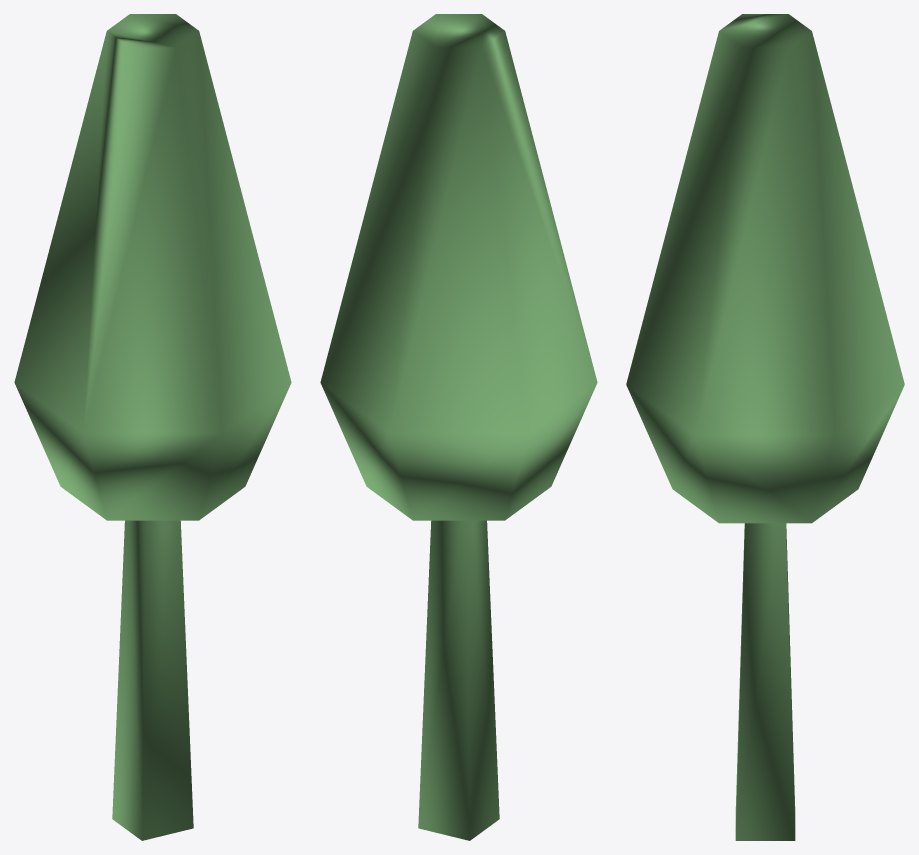
File: Tree.fbx
The picture shows the model from 3 angles, left to right: view 1: azimuth 30°, elevation 25°; view 2: azimuth 150°, elevation 25°; view 3: azimuth 270°, elevation 25°; orthographic projection.
Visible parts, largest first — view 1: Tree_tree-large; view 2: Tree_tree-large; view 3: Tree_tree-large.
Boxes of the visible parts, left/top/right/bottom form: Tree_tree-large: left=14, top=14, right=291, bottom=840; Tree_tree-large: left=320, top=14, right=597, bottom=840; Tree_tree-large: left=626, top=14, right=904, bottom=840.
Bounding box in the file's own units: 76.82 × 280 × 88.71.
